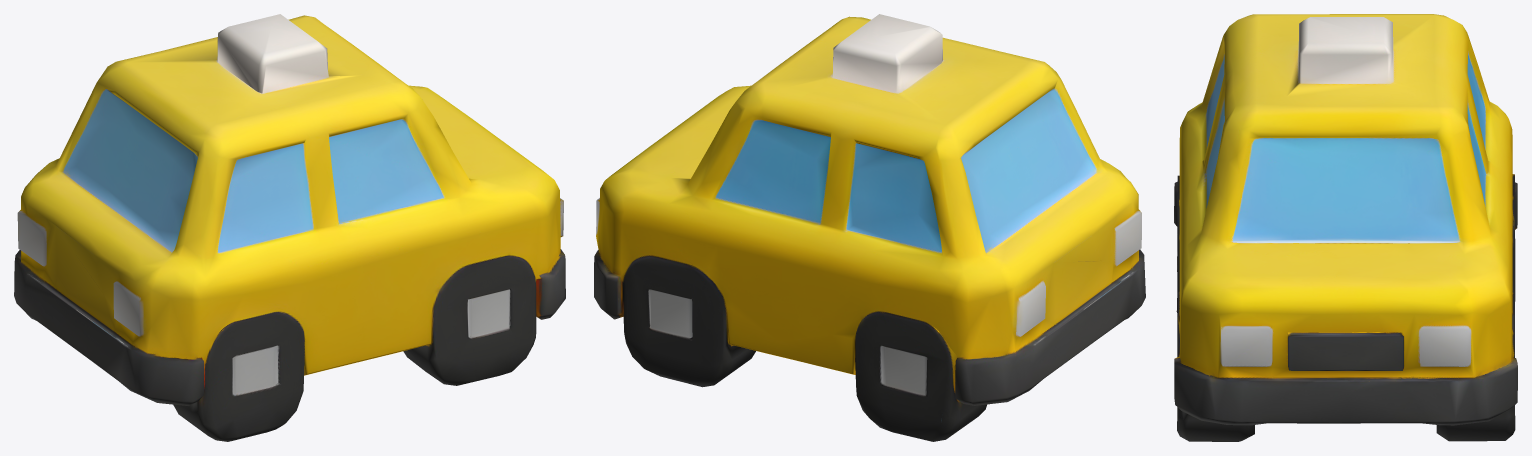
File: car_taxi.glb
3 views of the same model, side by side, from view 1: azimuth 30°, elevation 25°; view 2: azimuth 150°, elevation 25°; view 3: azimuth 270°, elevation 25° (orthographic). The views are drawn at different scales.
Parts seen in each view (by area): view 1: tripo_node_f6734393-8afa-40a7-a59a-2b8b0348c72a; view 2: tripo_node_f6734393-8afa-40a7-a59a-2b8b0348c72a; view 3: tripo_node_f6734393-8afa-40a7-a59a-2b8b0348c72a.
Boxes of the visible parts, x1,y1,x2,y2 form: tripo_node_f6734393-8afa-40a7-a59a-2b8b0348c72a: (14, 14, 565, 441); tripo_node_f6734393-8afa-40a7-a59a-2b8b0348c72a: (594, 14, 1145, 441); tripo_node_f6734393-8afa-40a7-a59a-2b8b0348c72a: (1174, 14, 1517, 441).
Bounding box in the file's own units: 1 × 0.7227 × 0.6756.
1 material, 1 textured.
